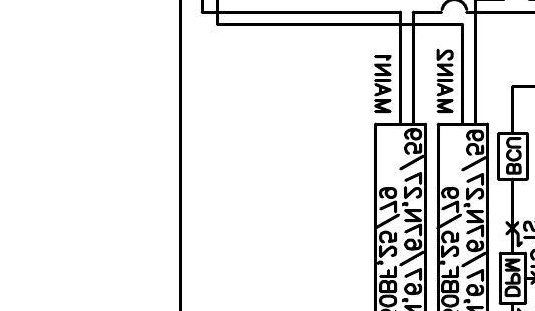BCU: (496, 131, 530, 182)
DPM: (498, 252, 528, 306)
